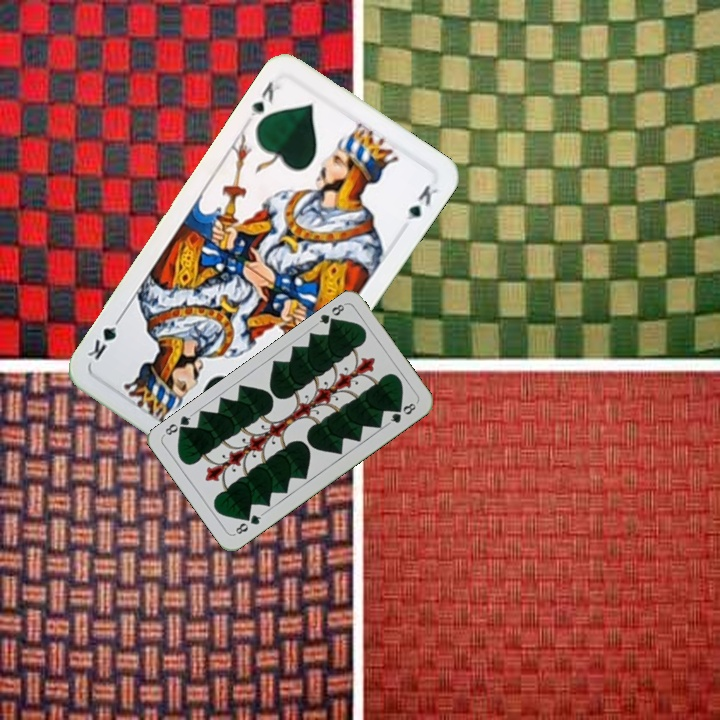G8: (312, 300, 347, 330), (230, 509, 266, 537)
GK: (246, 77, 283, 119)
